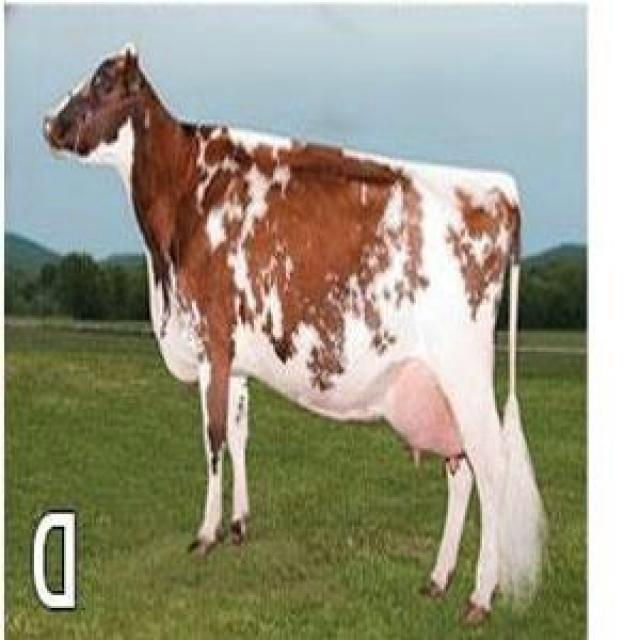cow: (45, 49, 544, 618)
